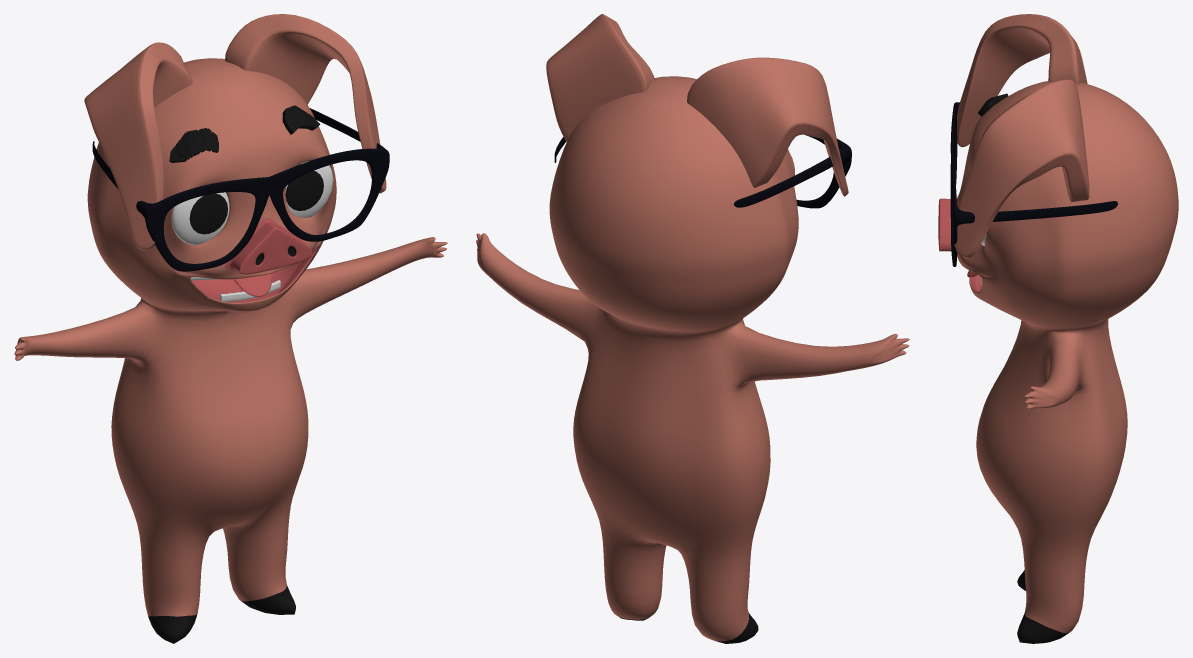
Rendered from pig.fbx.
3 renders of one model, left to right at view 1: azimuth 30°, elevation 25°; view 2: azimuth 150°, elevation 25°; view 3: azimuth 270°, elevation 25°, orthographic. The views are drawn at different scales.
Visible parts, largest first — view 1: body, ear_r, ear_l, glasses, eye_l1, eyebrow2, eye_l, tongue; view 2: body, ear_r, ear_l, glasses; view 3: body, ear_l, ear_r, glasses.
Part boxes in pixels (box(x1,y1,x2,y2)): body: box(14, 58, 447, 643); ear_r: box(84, 42, 192, 250); ear_l: box(225, 14, 386, 193); glasses: box(92, 108, 389, 271); eye_l1: box(171, 192, 229, 245); eyebrow2: box(169, 105, 320, 162); eye_l: box(285, 161, 333, 217); tongue: box(234, 273, 271, 296); body: box(476, 76, 909, 643); ear_r: box(687, 57, 848, 196); ear_l: box(546, 14, 654, 141); glasses: box(554, 135, 851, 208); body: box(938, 81, 1178, 643); ear_l: box(954, 79, 1089, 258); ear_r: box(957, 14, 1087, 147); glasses: box(950, 102, 1117, 266).
Bounding box in the file's own units: 3.53 × 4.58 × 1.77.
